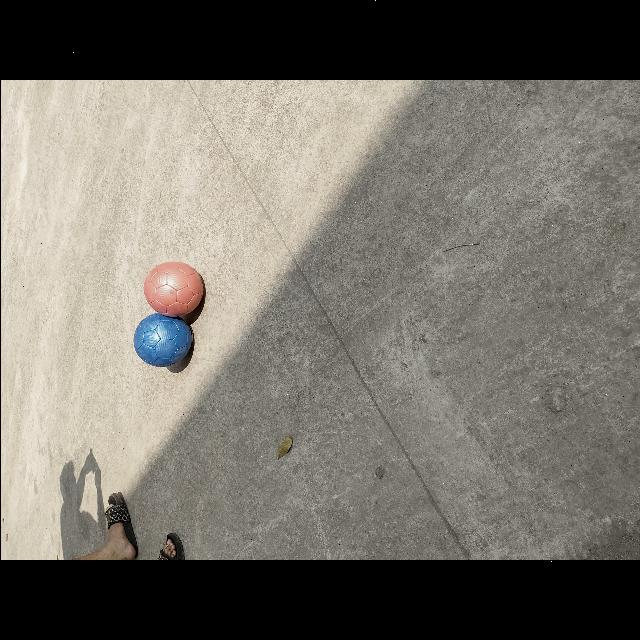B: (132, 313, 191, 367)
R: (143, 262, 203, 317)
